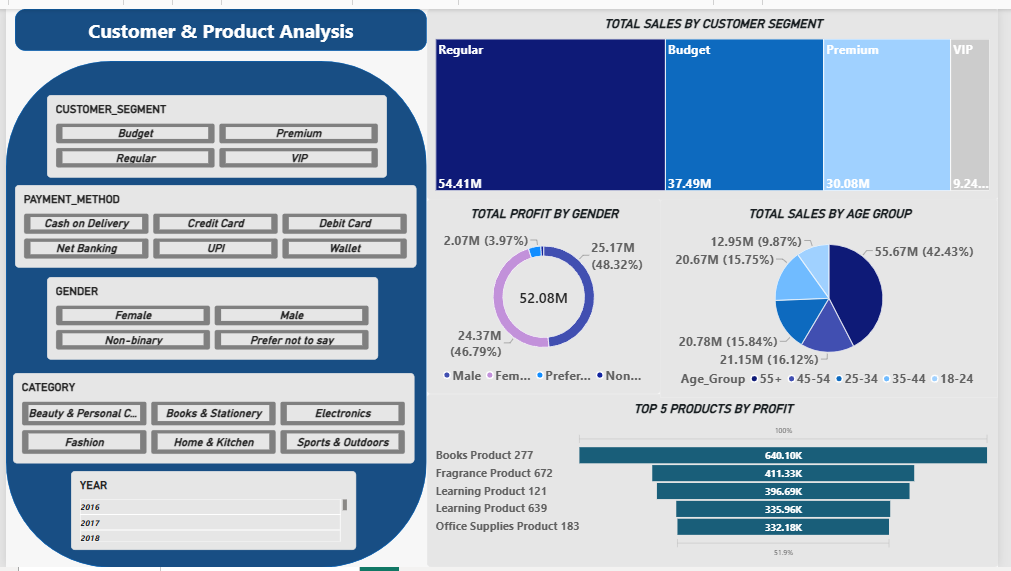

This screenshot's page, from the dashboard's own definition file:
{"tool":"powerbi","page":{"name":"Customer & Product Analysis","canvas":[1920,1080],"ordinal":1},"visuals":[{"type":"shape","box":[0,100.2,814,980.2],"z":0},{"type":"advancedSlicerVisual","fields":{"Values":["DIM_CUSTOMER.GENDER"]},"box":[78.8,517.8,641.4,159.8],"z":1},{"type":"advancedSlicerVisual","fields":{"Values":["DIM_ORDER.PAYMENT_METHOD"]},"box":[17,341,777.4,160.2],"z":2},{"type":"advancedSlicerVisual","fields":{"Values":["DIM_CUSTOMER.CUSTOMER_SEGMENT"]},"box":[78.8,166.2,658.5,159.8],"z":3},{"type":"listSlicer","fields":{"Values":["DIM_DATE.YEAR"]},"box":[125.7,895,551.9,153.4],"z":5},{"type":"advancedSlicerVisual","fields":{"Values":["DIM_PRODUCT.CATEGORY"]},"box":[12.8,705.3,777.4,175.1],"z":6},{"type":"funnel","title":"TOP 5 PRODUCTS BY PROFIT","fields":{"Category":["DIM_PRODUCT.PRODUCT_NAME"],"Y":["FACT_ORDER_ITEMS.TOTAL_PROFIT"]},"box":[814,745.8,1106,334.6],"z":7},{"type":"pieChart","title":"TOTAL SALES BY AGE GROUP","fields":{"Category":["DIM_CUSTOMER.Age_Group"],"Y":["FACT_ORDER_ITEMS.TOTAL_NET_SALES"]},"box":[1265.8,368.7,654.2,383.6],"z":8},{"type":"donutChart","title":"TOTAL PROFIT BY GENDER","fields":{"Category":["DIM_CUSTOMER.GENDER"],"Y":["FACT_ORDER_ITEMS.TOTAL_PROFIT"]},"box":[814,368.7,451.8,377.2],"z":9},{"type":"treemap","title":"TOTAL SALES BY CUSTOMER SEGMENT","fields":{"Group":["DIM_CUSTOMER.CUSTOMER_SEGMENT"],"Values":["FACT_ORDER_ITEMS.TOTAL_NET_SALES"]},"box":[814,0,1106,368.7],"z":11},{"type":"shape","box":[17,0,797,81],"z":12}]}

Visuals, with their boxes in screenshot pixels (x1, y1, x2, y2), scaled from the page's 1920x1080 canvas onto the 1011x571 screenshot:
shape: (0, 53, 429, 570)
advancedSlicerVisual - DIM_CUSTOMER.GENDER: (41, 274, 379, 358)
advancedSlicerVisual - DIM_ORDER.PAYMENT_METHOD: (9, 180, 418, 265)
advancedSlicerVisual - DIM_CUSTOMER.CUSTOMER_SEGMENT: (41, 88, 388, 172)
listSlicer - DIM_DATE.YEAR: (66, 473, 357, 554)
advancedSlicerVisual - DIM_PRODUCT.CATEGORY: (7, 373, 416, 465)
"TOP 5 PRODUCTS BY PROFIT" funnel: (429, 394, 1010, 570)
"TOTAL SALES BY AGE GROUP" pieChart: (667, 195, 1010, 398)
"TOTAL PROFIT BY GENDER" donutChart: (429, 195, 667, 394)
"TOTAL SALES BY CUSTOMER SEGMENT" treemap: (429, 0, 1010, 195)
shape: (9, 0, 429, 43)
